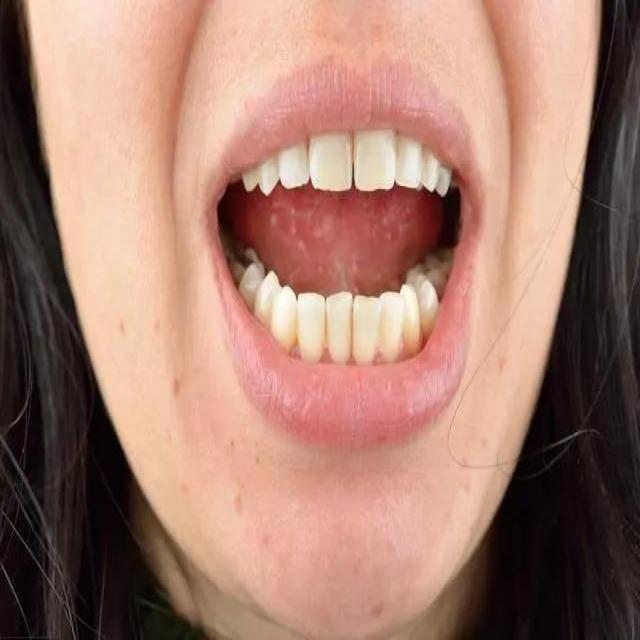Tooth: (406, 257, 448, 331), (353, 126, 396, 191), (309, 132, 354, 194), (297, 293, 326, 364), (268, 287, 298, 352), (326, 293, 353, 363), (353, 298, 380, 366), (400, 285, 424, 355), (379, 292, 404, 359), (253, 273, 281, 328), (395, 134, 422, 189), (277, 143, 309, 189), (239, 265, 262, 314), (256, 154, 280, 194), (420, 148, 439, 194)
